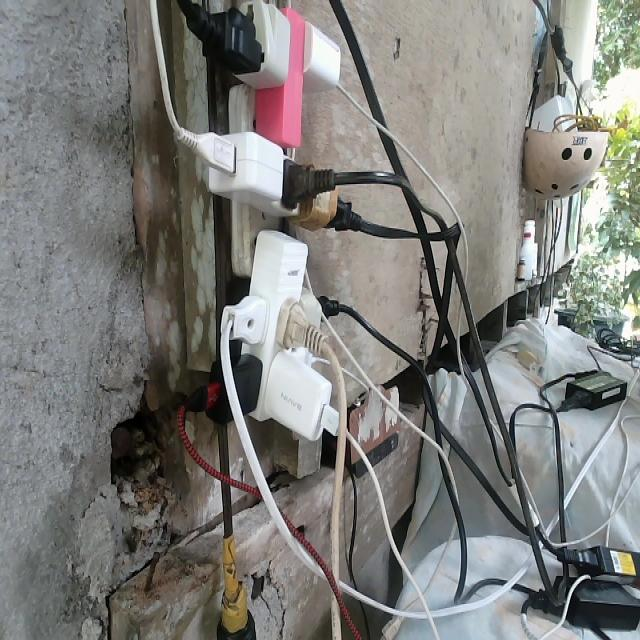-: (139, 0, 436, 519)
